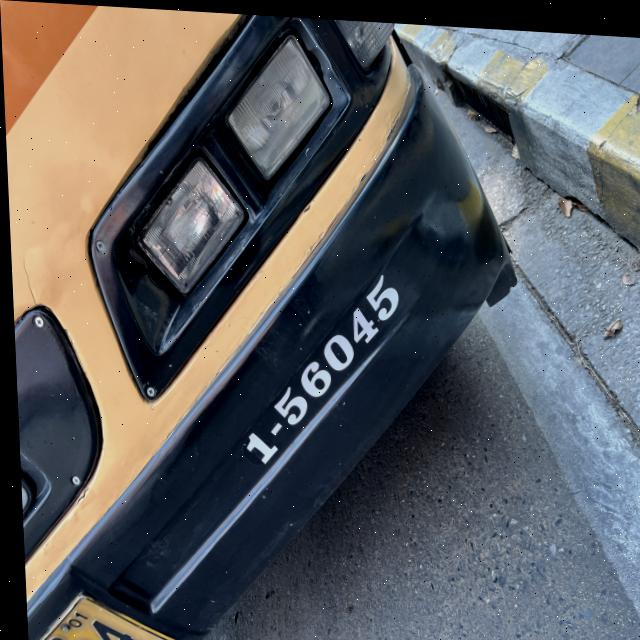BMTA-bus: (0, 0, 537, 640)
